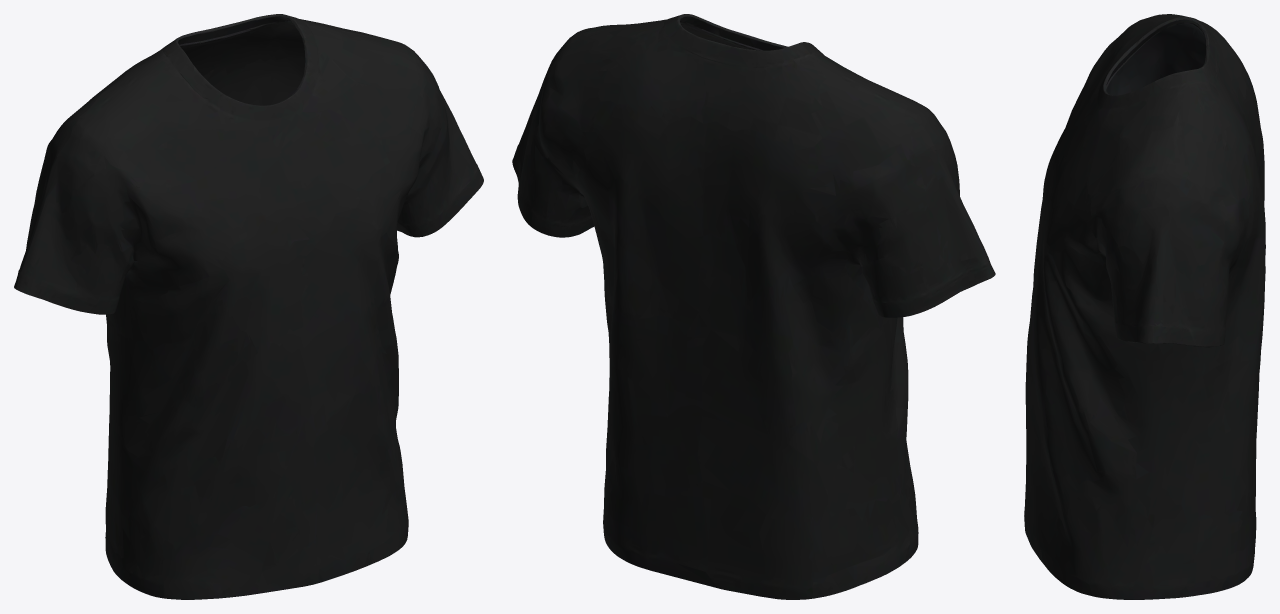
Rendered from DEMO-P001.glb.
3 renders of one model, left to right at view 1: azimuth 30°, elevation 25°; view 2: azimuth 150°, elevation 25°; view 3: azimuth 270°, elevation 25°, orthographic. The views are drawn at different scales.
Bounding box in the file's own units: 1.82 × 1.9 × 0.8361.
1 material, 1 textured.
